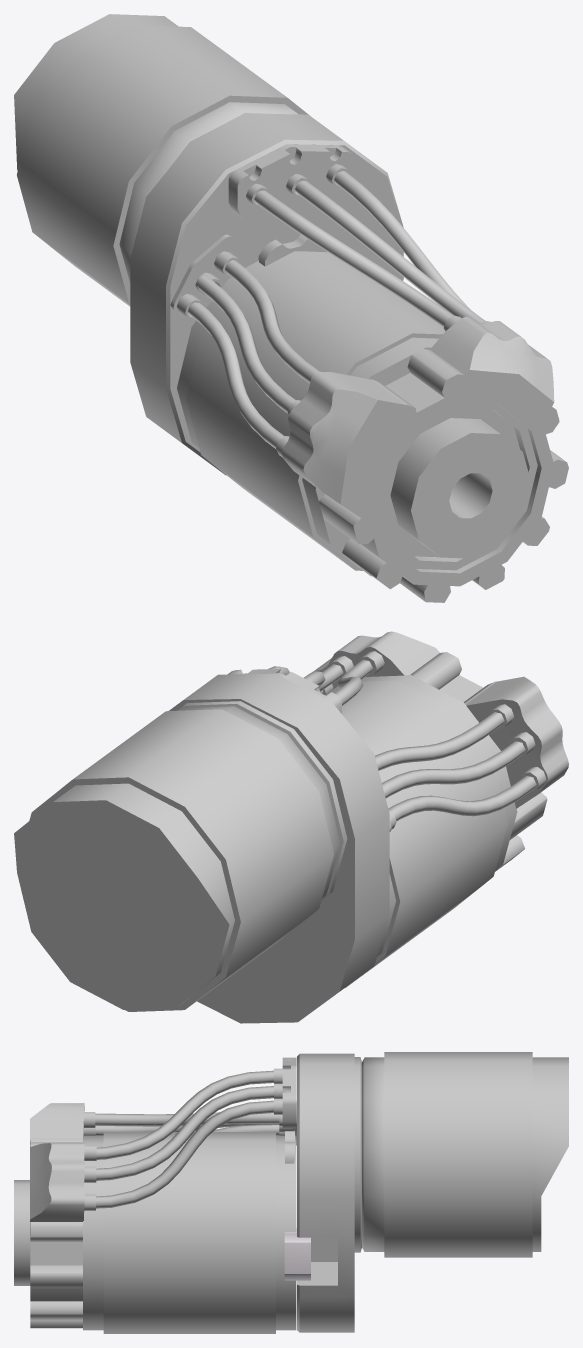
File: Eletric_Motor.fbx
The picture shows the model from 3 angles, top to bottom: view 1: azimuth 30°, elevation 25°; view 2: azimuth 150°, elevation 25°; view 3: azimuth 270°, elevation 25°; orthographic projection. The views are drawn at different scales.
Visible parts, largest first — view 1: Eletric_Motor; view 2: Eletric_Motor; view 3: Eletric_Motor.
Boxes of the visible parts, x1,y1,x2,y2 form: Eletric_Motor: [14, 14, 568, 602]; Eletric_Motor: [14, 631, 568, 1023]; Eletric_Motor: [14, 1052, 568, 1333].
Size of the model in its own units: 120 by 150 by 287.
